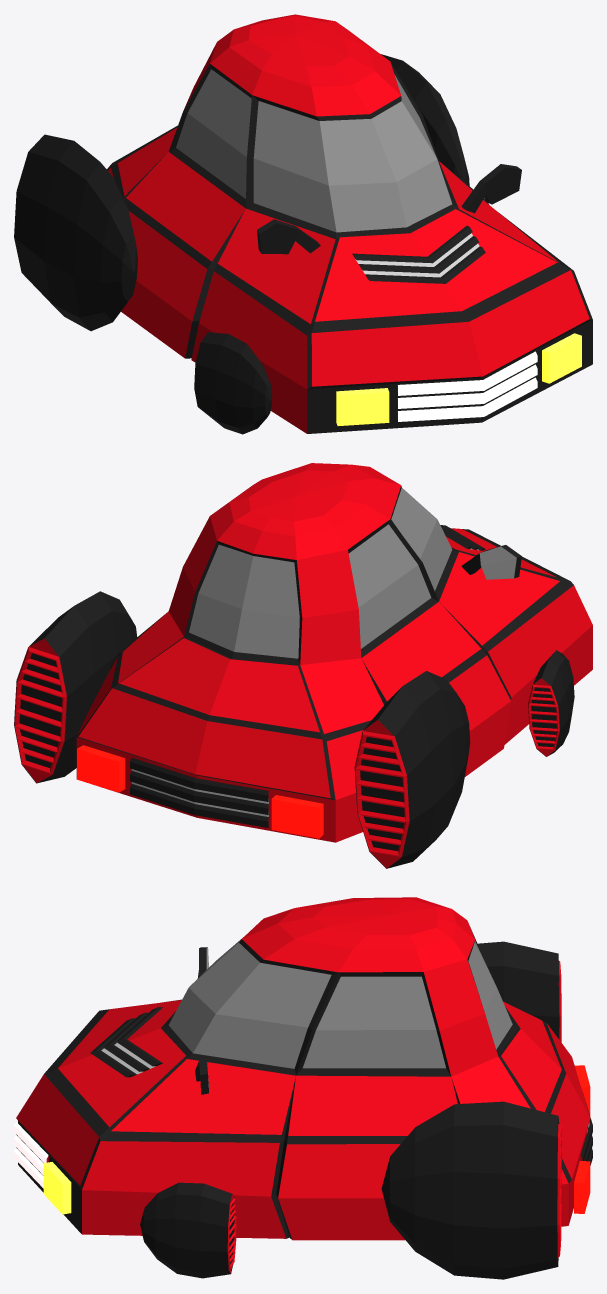
The model's file is avto.fbx.
3 renders of one model, top to bottom at view 1: azimuth 30°, elevation 25°; view 2: azimuth 150°, elevation 25°; view 3: azimuth 270°, elevation 25°, orthographic.
Parts seen in each view (by area): view 1: Куб; view 2: Куб; view 3: Куб.
Part boxes in pixels (x1,y1,x2,y2): Куб: [14, 14, 592, 434]; Куб: [14, 463, 592, 868]; Куб: [14, 897, 592, 1279].
Size of the model in its own units: 146 by 100 by 186.
